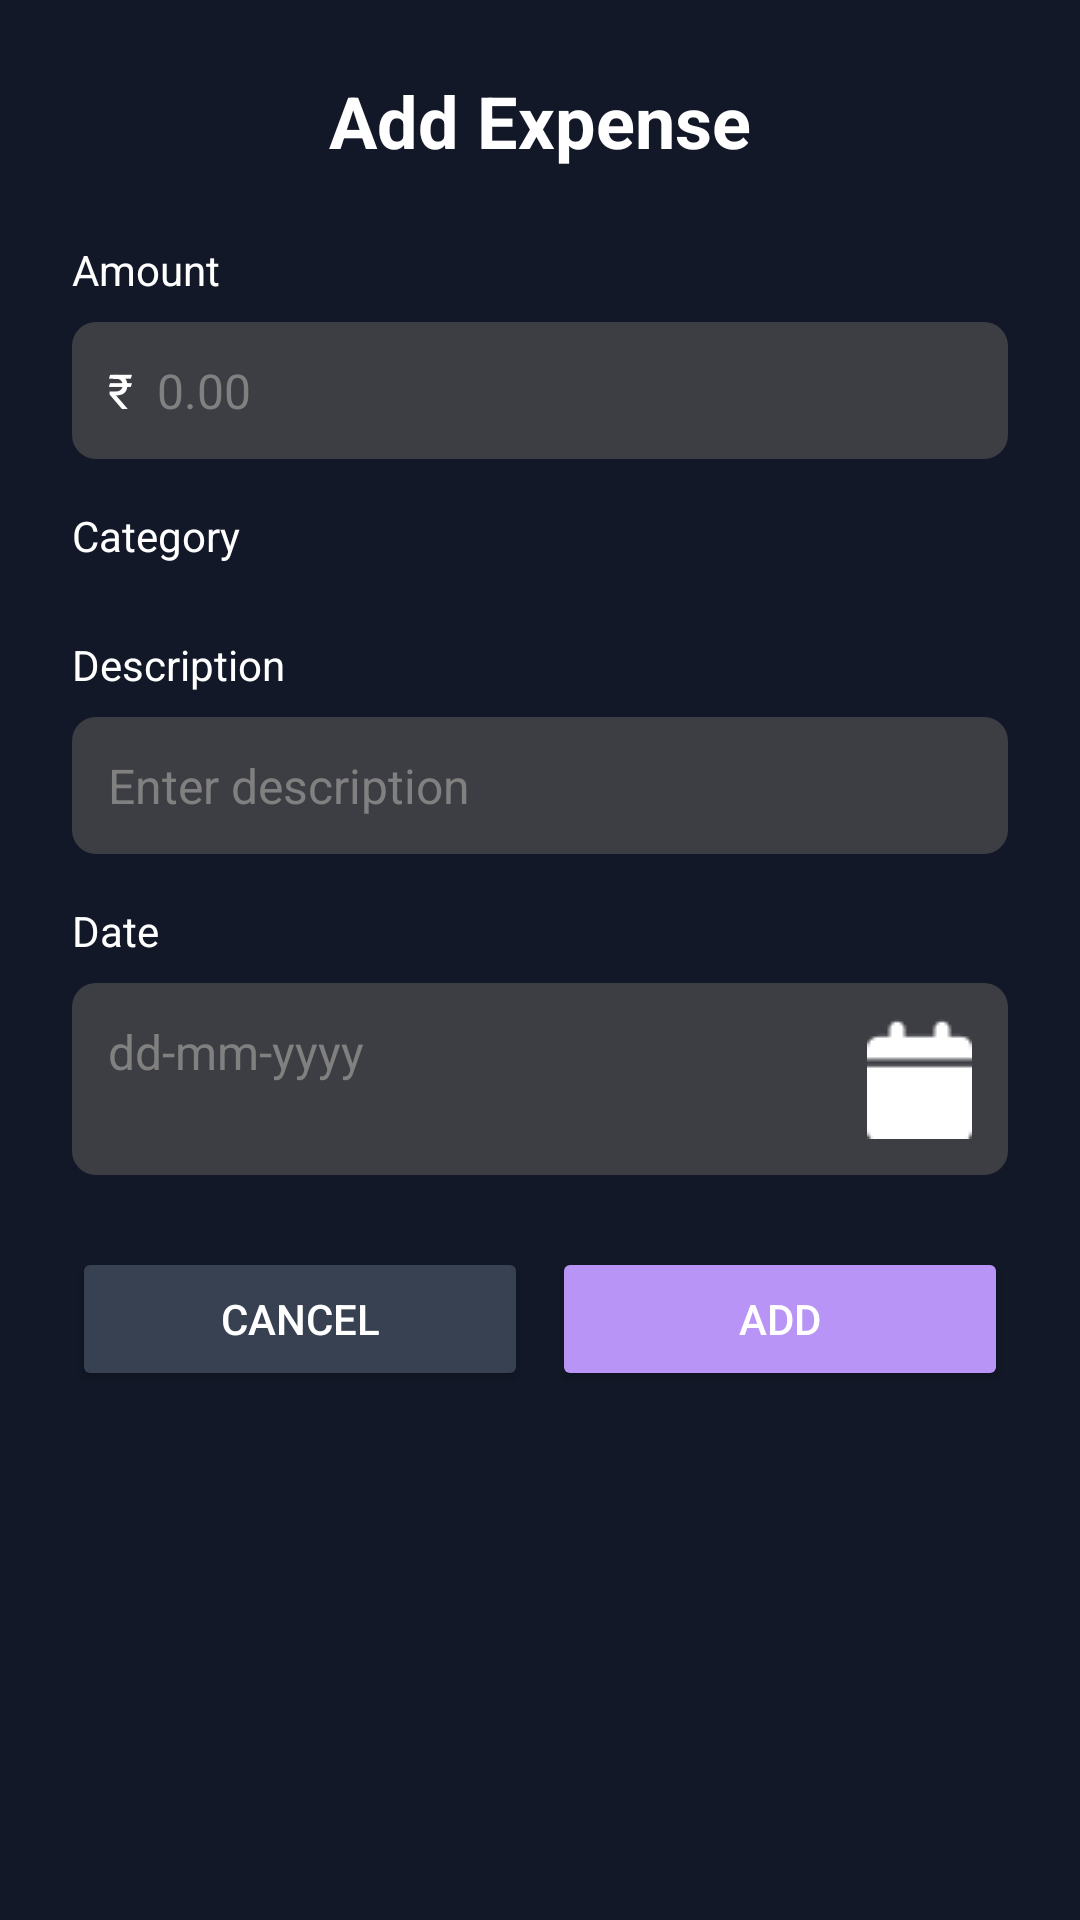

Icon bounding boxes for this 1080×1920 phone screenshot, format (x1, y1, x2, y2):
calendar: (867, 1021, 972, 1139)
